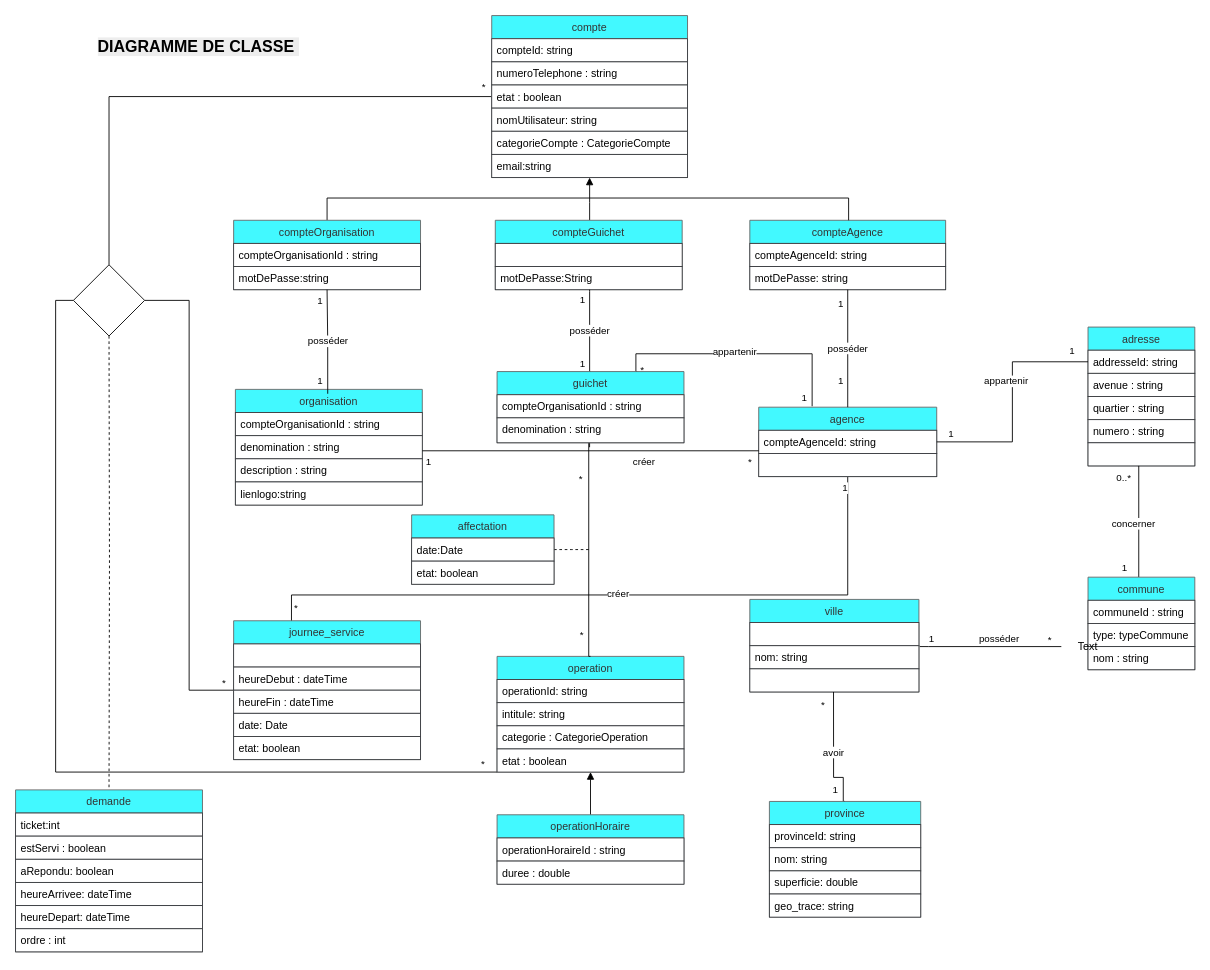
Image size: 1210x970. Some labels were removed from this diagram. The shapes that lost their labels are listed below. From the top down, each one's centre as x and y in pixels, then its label:
At (x=588, y=255): "compteGuichetId: string".
At (x=847, y=465): "intitule:String".
At (x=1141, y=454): "reference: string".
At (x=834, y=634): "villeId: string".
At (x=327, y=655): "journeeId : string".
At (x=834, y=680): "district : string".
